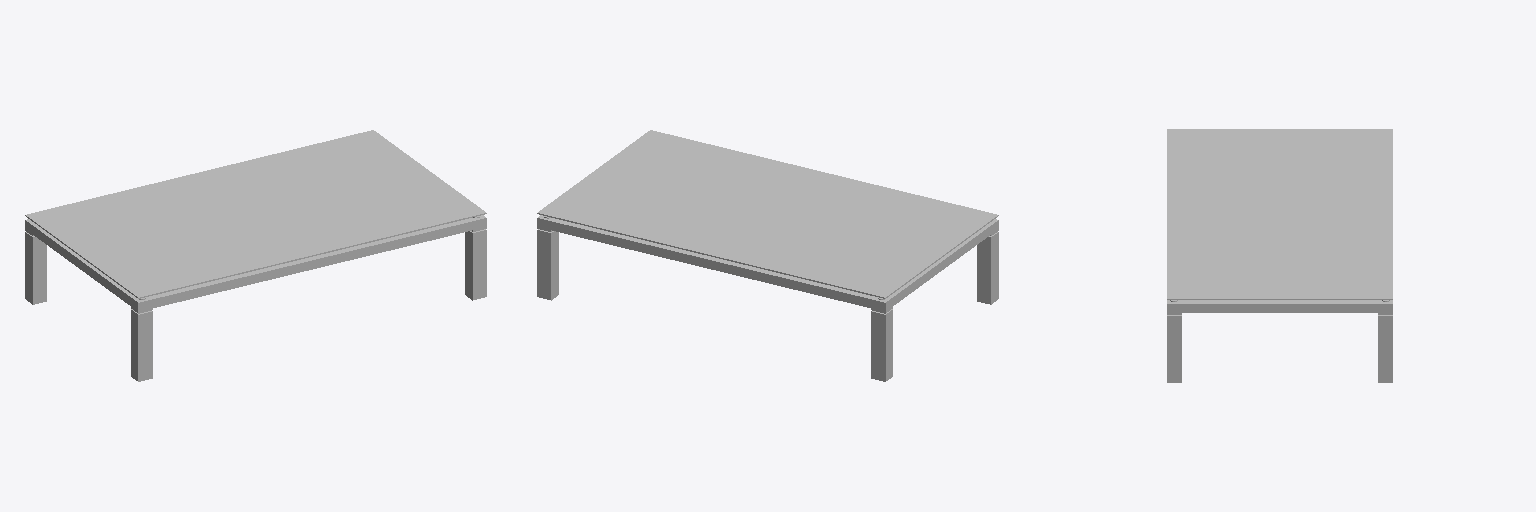
Rendered from table1.obj.
The picture shows the model from 3 angles: view 1: azimuth 30°, elevation 25°; view 2: azimuth 150°, elevation 25°; view 3: azimuth 270°, elevation 25°; orthographic projection.
Visible parts, largest first — view 1: grp3, grp1, grp2; view 2: grp3, grp1, grp2; view 3: grp3, grp1, grp2.
Part boxes in pixels (x1,y1,x2,y2): grp3: (25,130,486,298); grp1: (25,221,486,381); grp2: (25,215,486,314); grp3: (537,130,998,298); grp1: (537,221,998,381); grp2: (537,215,998,314); grp3: (1167,129,1392,299); grp1: (1167,307,1392,382); grp2: (1167,300,1392,315).
Bounding box in the file's own units: 28.72 × 6.65 × 16.18.